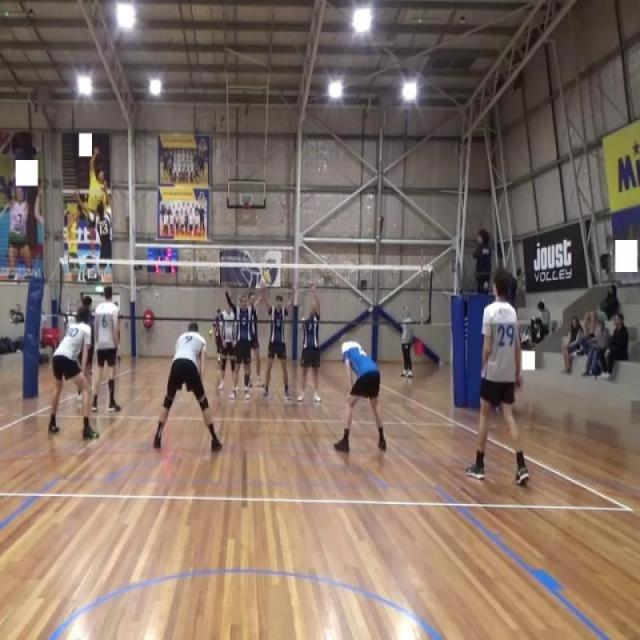volleyball: (208, 328, 214, 336)
